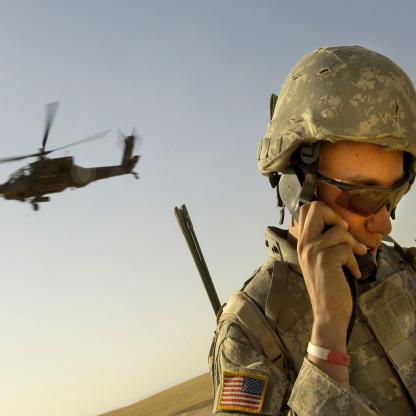Helmet: (262, 52, 414, 243)
